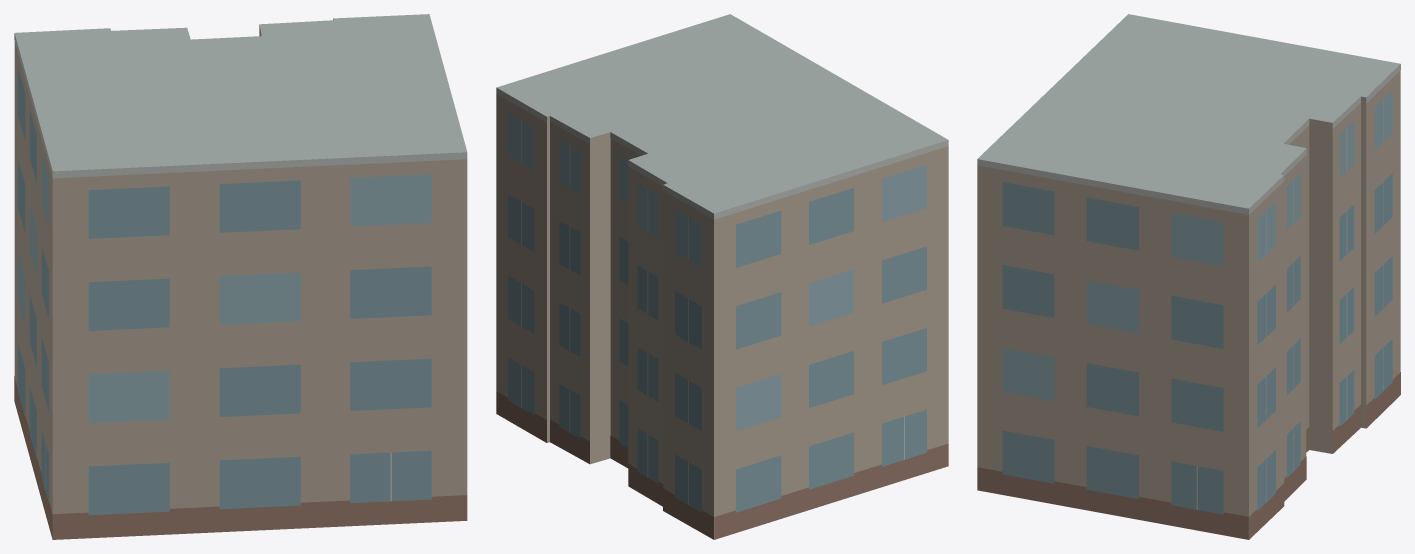
The model's file is survey-upis-32670851.glb.
The picture shows the model from 3 angles, left to right: view 1: azimuth 30°, elevation 25°; view 2: azimuth 150°, elevation 25°; view 3: azimuth 270°, elevation 25°; orthographic projection. The views are drawn at different scales.
Visible parts, largest first — view 1: survey-upis-32670851.tmp; view 2: survey-upis-32670851.tmp; view 3: survey-upis-32670851.tmp.
Part boxes in pixels (box(x1,y1,x2,y2)): survey-upis-32670851.tmp: box(14, 14, 467, 539); survey-upis-32670851.tmp: box(496, 14, 948, 539); survey-upis-32670851.tmp: box(977, 14, 1400, 539).
Bounding box in the file's own units: 16.33 × 12.95 × 15.02.
